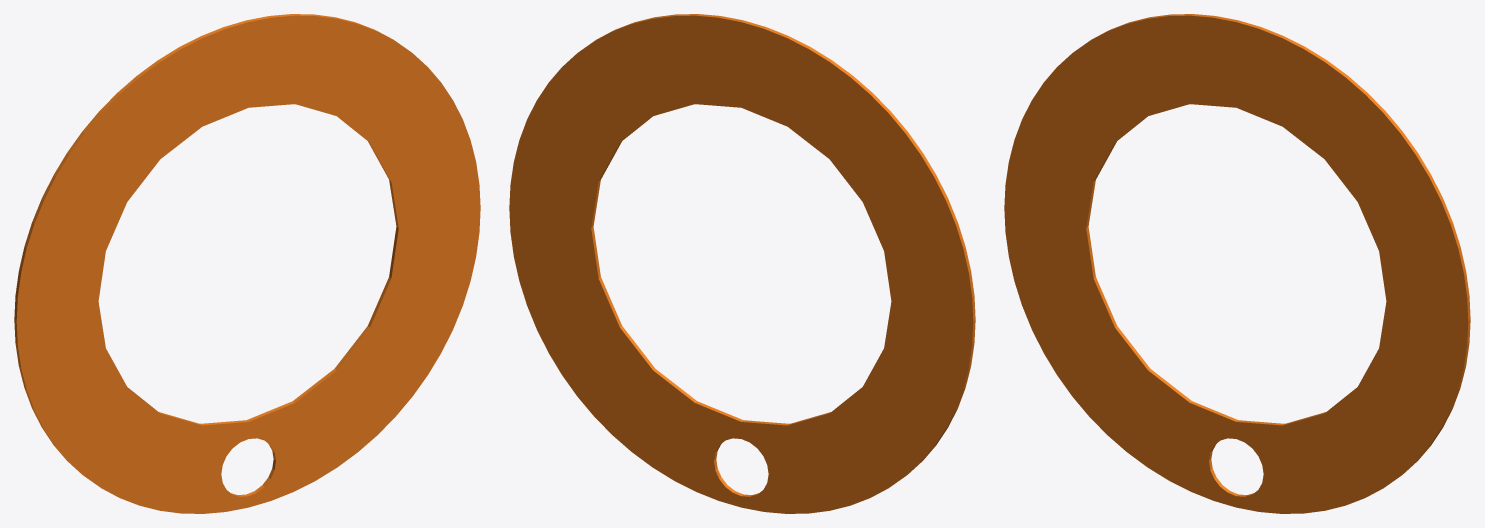
Rendered from tinker.obj.
3 views of the same model, side by side, from view 1: azimuth 30°, elevation 25°; view 2: azimuth 150°, elevation 25°; view 3: azimuth 330°, elevation 25° (orthographic).
Parts seen in each view (by area): view 1: obj_0; view 2: obj_0; view 3: obj_0.
Part boxes in pixels (x1,y1,x2,y2): obj_0: (14, 14, 480, 513); obj_0: (509, 14, 975, 513); obj_0: (1004, 14, 1470, 513).
Bounding box in the file's own units: 170 × 170 × 1.5.
